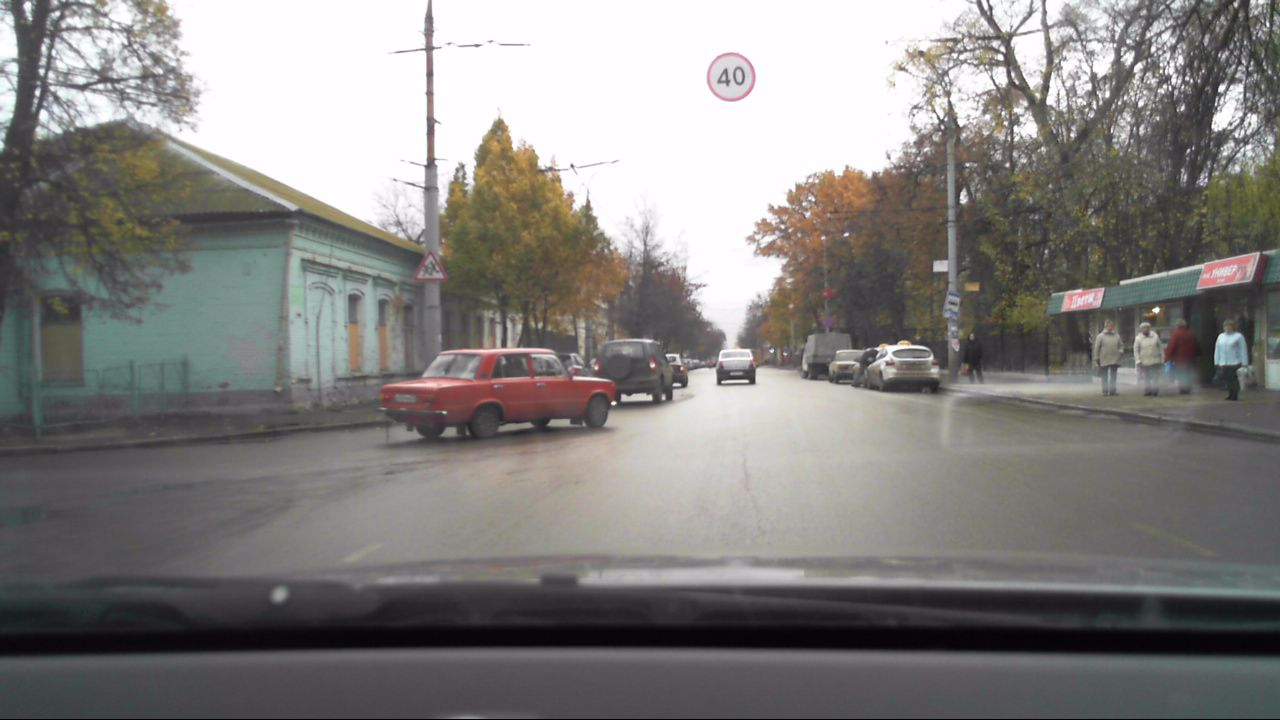speed_warning_40: (707, 52, 755, 100)
